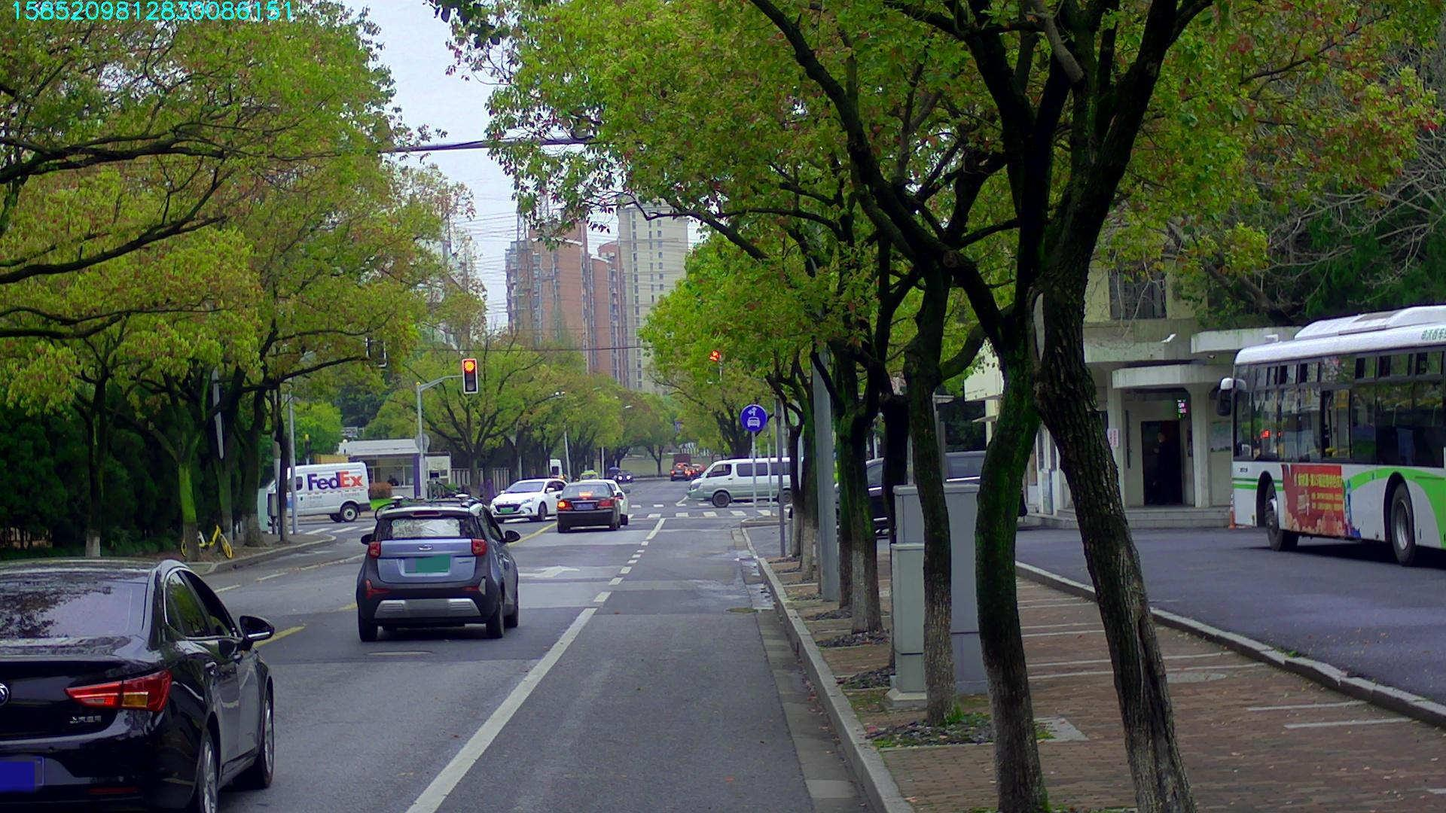red: (707, 346, 721, 382), (462, 359, 476, 392)
